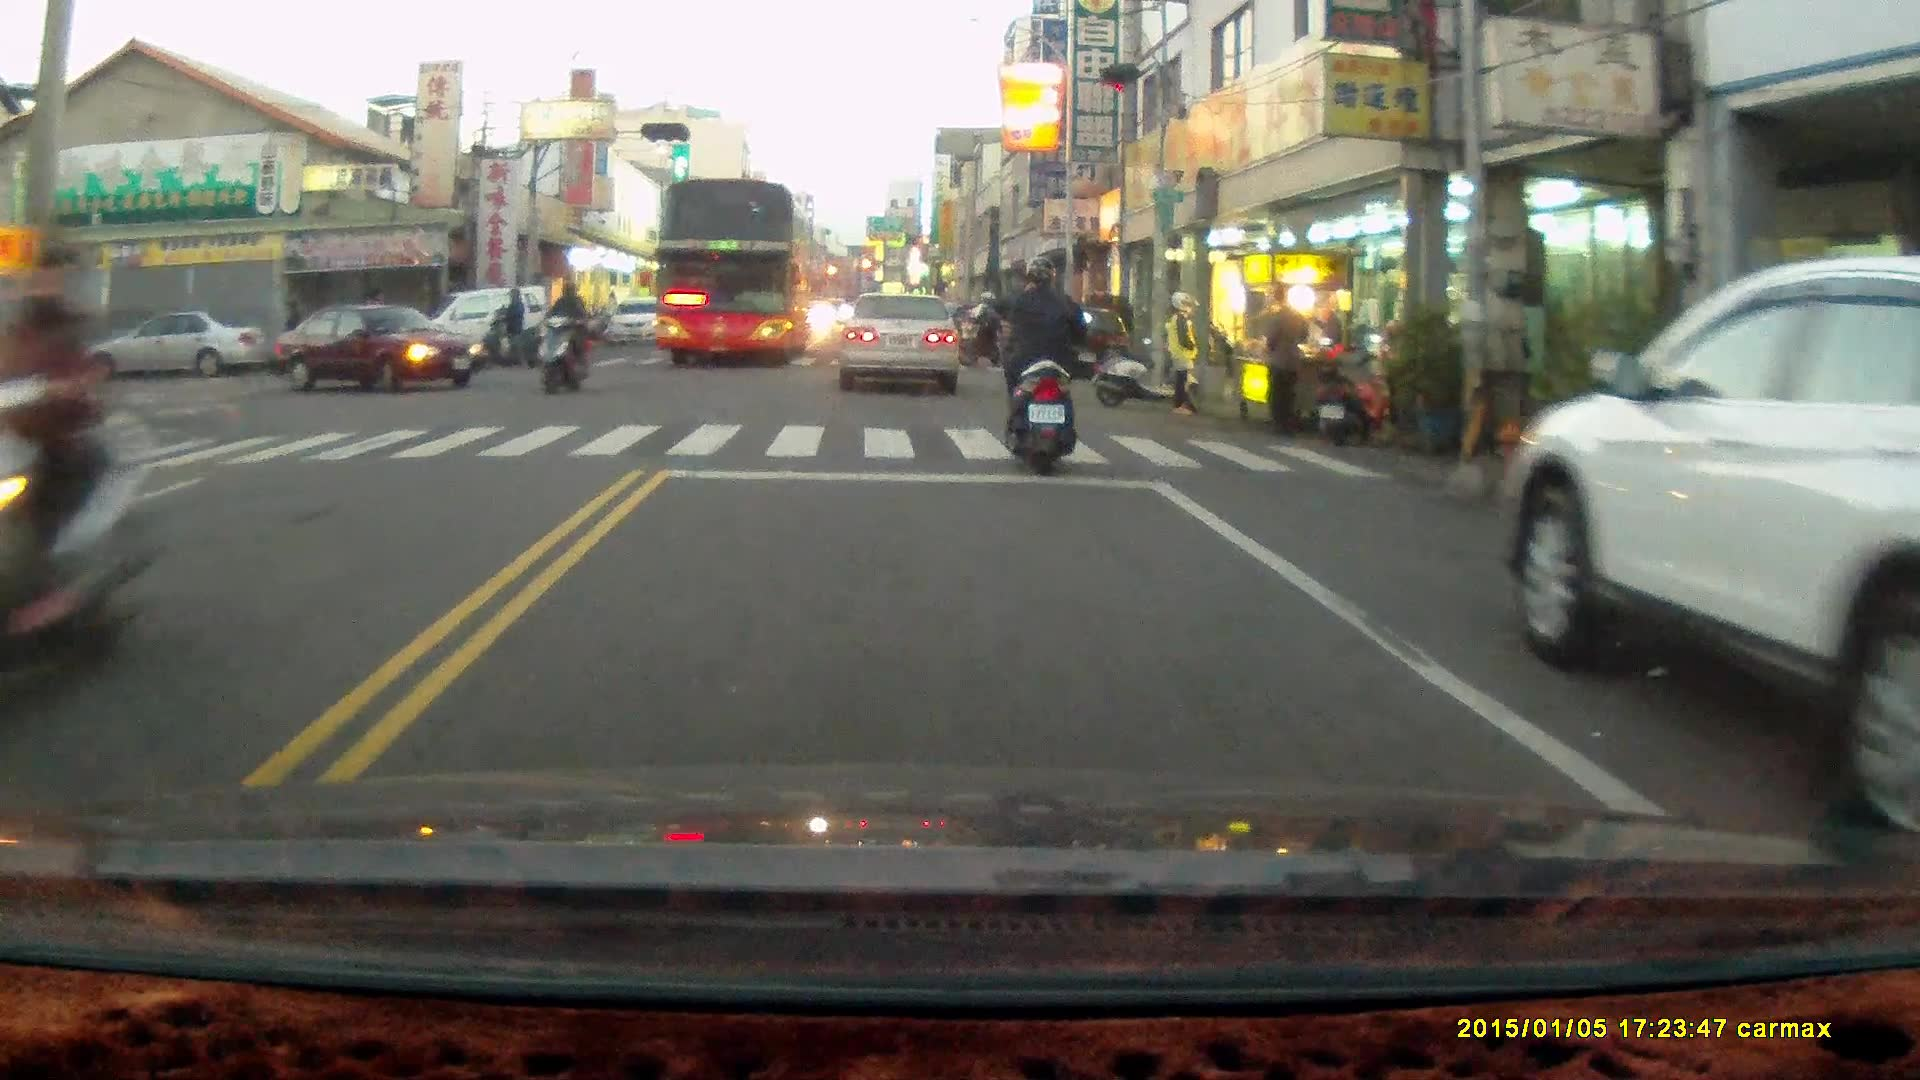pedestrian: (1260, 281, 1306, 438), (1161, 282, 1200, 412)
rider: (0, 243, 165, 699), (991, 247, 1095, 471), (538, 276, 591, 397), (477, 284, 539, 365), (957, 289, 1012, 370)
vehicle: (1493, 255, 1920, 830), (654, 180, 812, 373), (277, 301, 481, 392), (72, 311, 254, 388), (839, 290, 965, 397), (419, 286, 562, 372), (1040, 302, 1137, 377), (607, 296, 674, 346)
